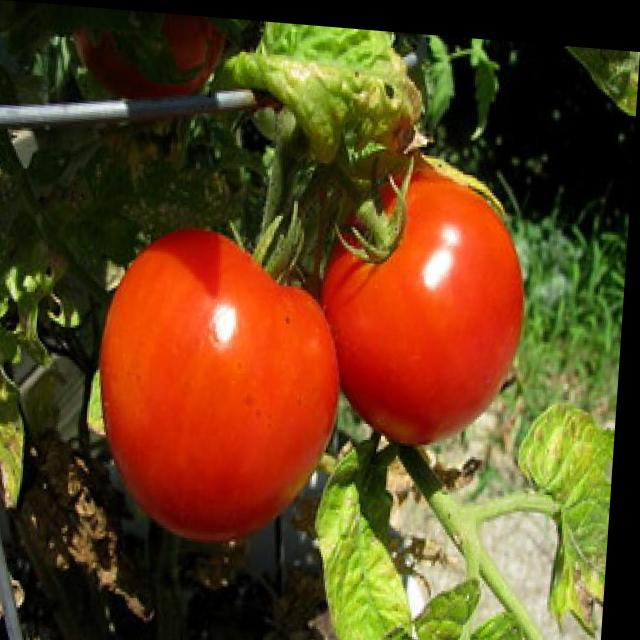kirmizi: (81, 129, 540, 557)
